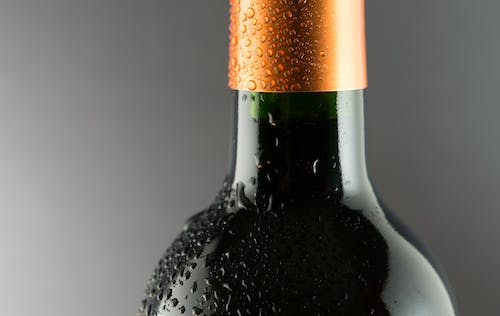alcohol: (136, 0, 459, 316)
